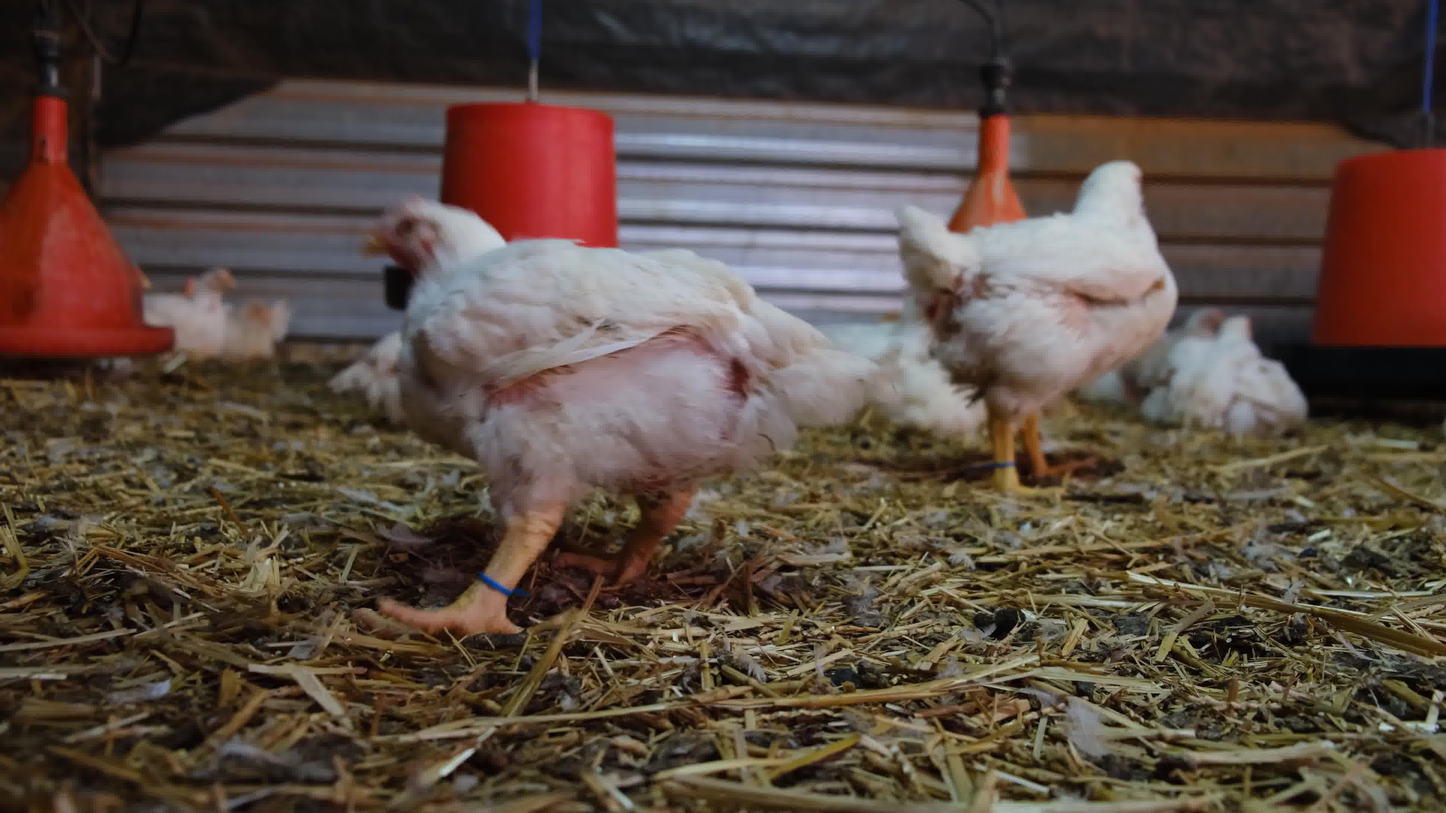AbNormal: (845, 294, 994, 440), (1211, 316, 1314, 437), (331, 312, 429, 429), (1177, 292, 1258, 416), (218, 297, 316, 367)
Normal: (360, 192, 815, 651), (879, 158, 1184, 491), (147, 252, 250, 365)
